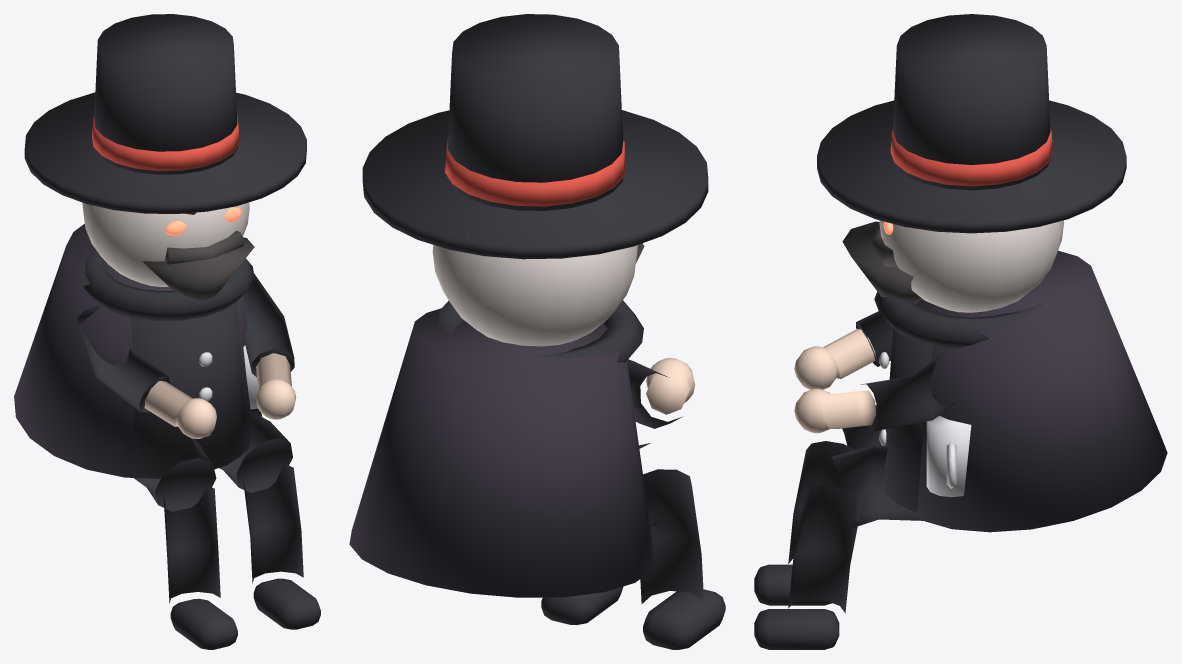
Rendered from driver_finster.glb.
3 views of the same model, side by side, from view 1: azimuth 30°, elevation 25°; view 2: azimuth 150°, elevation 25°; view 3: azimuth 270°, elevation 25° (orthographic). The views are drawn at different scales.
Visible parts, largest first — view 1: Finster; view 2: Finster; view 3: Finster.
Part boxes in pixels (<box>): Finster: <box>14,14,320,649</box>; Finster: <box>349,14,725,649</box>; Finster: <box>754,14,1167,649</box>.
Bounding box in the file's own units: 1.24 × 2.55 × 1.65.
